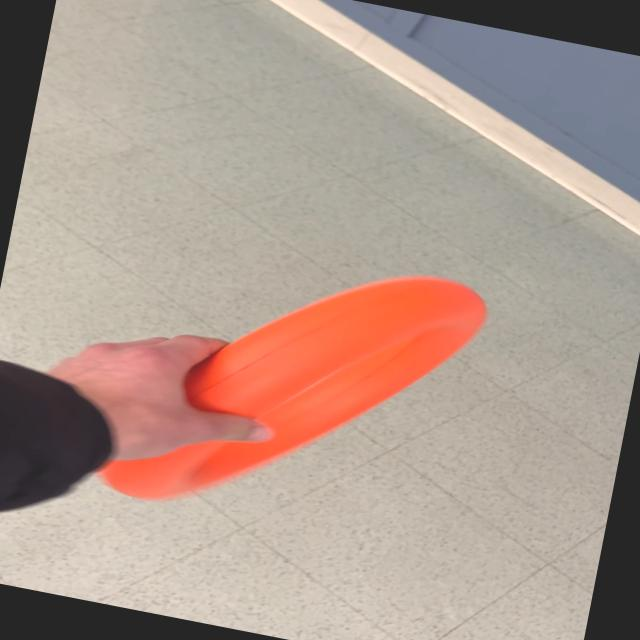note: (90, 217, 496, 558)
